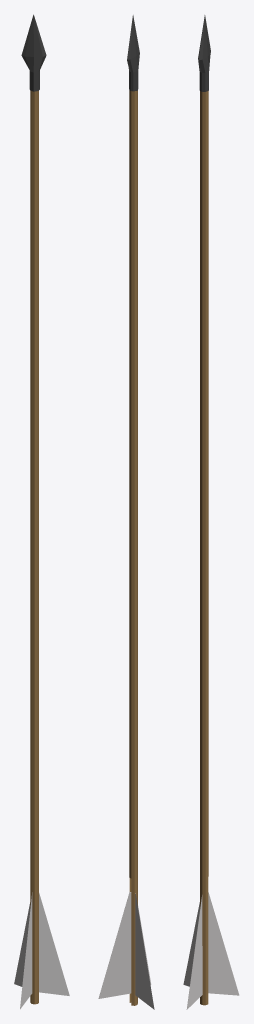
Rendered from Arrow.fbx.
3 views of the same model, side by side, from view 1: azimuth 90°, elevation 25°; view 2: azimuth 150°, elevation 25°; view 3: azimuth 330°, elevation 25° (orthographic).
Visible parts, largest first — view 1: Arrow; view 2: Arrow; view 3: Arrow.
Boxes of the visible parts, <box> form: Arrow: <box>14,14,69,1009</box>; Arrow: <box>98,15,154,1009</box>; Arrow: <box>183,15,239,1009</box>.
Bounding box in the file's own units: 27.05 × 480 × 24.54.
